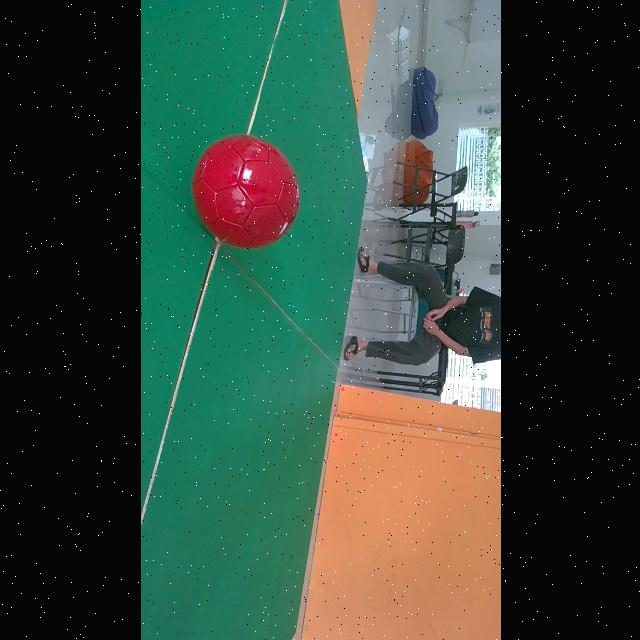R: (191, 135, 298, 248)
